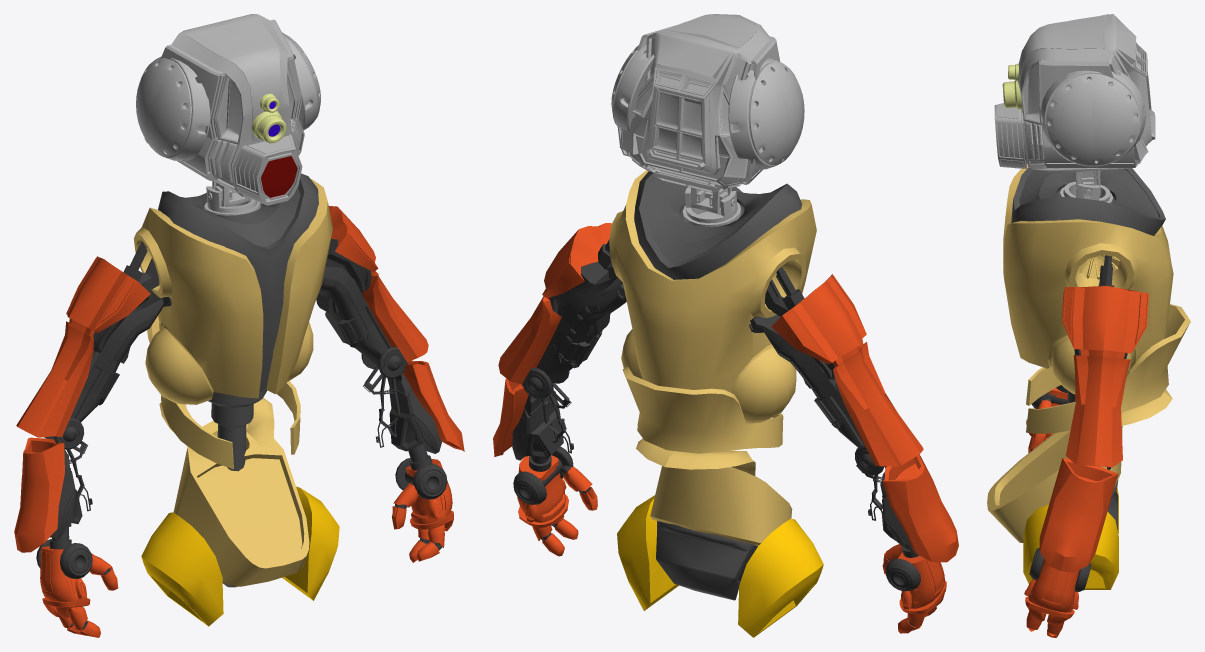
The model's file is Testing_Bot.fbx.
The picture shows the model from 3 angles, left to right: view 1: azimuth 30°, elevation 25°; view 2: azimuth 150°, elevation 25°; view 3: azimuth 270°, elevation 25°; orthographic projection. The views are drawn at different scales.
Visible parts, largest first — view 1: Cube.029, Cube.008, Cube, Cube.019, Cube.002, Circle, Cube.020, Cube.003, Cube.007, Circle.001, Cube.028, Circle.002 (+6 smaller); view 2: Cube.029, Cube.008, Cube.019, Cube.002, Cube, Circle, Cube.028, Cube.020, Circle.001, Cube.003, Cube.005, Cube.007 (+6 smaller); view 3: Cube.029, Cube.008, Cube.002, Circle, Cube.003, Cube, Cube.028, Cube.007, Cube.001, Circle.002, Cube.009, Cube.017 (+3 smaller).
Part boxes in pixels (x1,y1,x2,y2): Cube.029: (134,179,332,404); Cube.008: (144,14,304,205); Cube: (159,397,309,586); Cube.019: (16,241,171,449); Cube.002: (316,206,428,378); Circle: (136,32,320,161); Cube.020: (14,437,92,578); Cube.003: (363,360,464,499); Cube.007: (158,173,318,391); Circle.001: (141,512,223,626); Cube.028: (147,316,300,469); Circle.002: (282,486,339,600); Cube.029: (609,170,816,423); Cube.008: (617,14,780,192); Cube.019: (749,266,923,475); Cube.002: (498,223,626,399); Cube: (636,438,792,545); Circle: (611,45,804,169); Cube.028: (622,366,783,453); Cube.020: (856,454,958,591); Circle.001: (738,518,823,637); Cube.003: (493,378,573,504); Cube.005: (656,521,757,600); Cube.007: (634,171,802,279); Cube.029: (1003,164,1173,394); Cube.008: (994,14,1155,173); Cube.002: (1062,255,1148,469); Circle: (1040,70,1145,166); Cube.003: (1029,458,1118,591); Cube: (987,389,1172,542); Cube.028: (1026,304,1190,433); Cube.007: (1011,167,1165,235); Cube.001: (1019,169,1159,217); Circle.002: (1023,504,1118,589); Cube.009: (1024,559,1079,625); Cube.017: (1059,170,1113,203).
Bounding box in the file's own units: 293 × 356 × 123.
